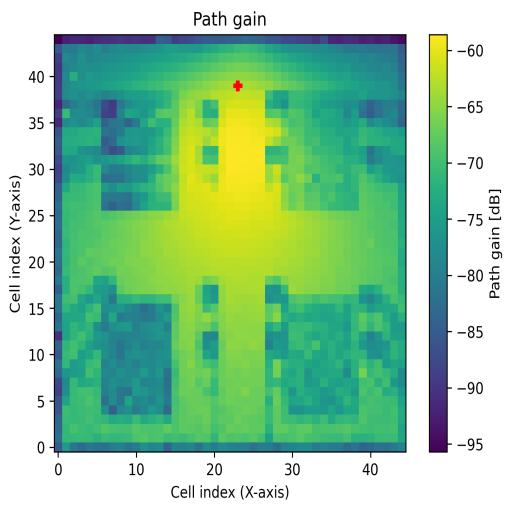Concrete: (281, 90, 359, 212)
Glass: (101, 90, 180, 211)
Metal: (290, 295, 360, 423)
Wood: (101, 293, 172, 414)
